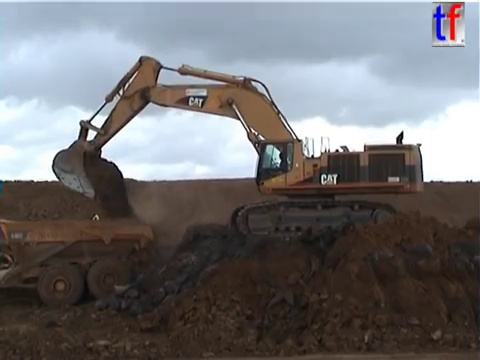excavator: (48, 52, 428, 244)
truck: (1, 216, 159, 308)
worker: (89, 210, 102, 232)
